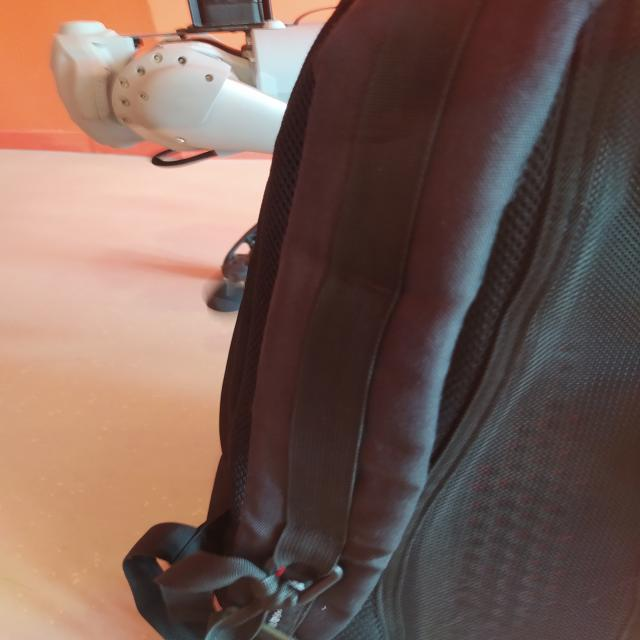unitree-go1-robot: (52, 0, 372, 323)
